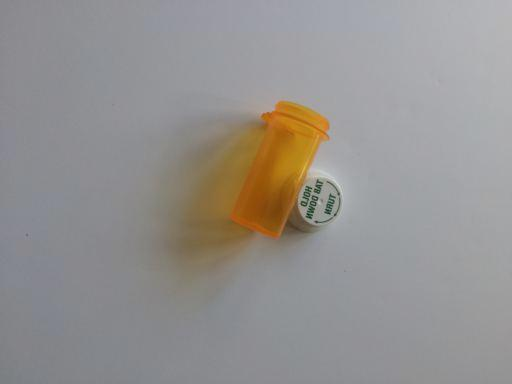plastic: (230, 99, 343, 239)
